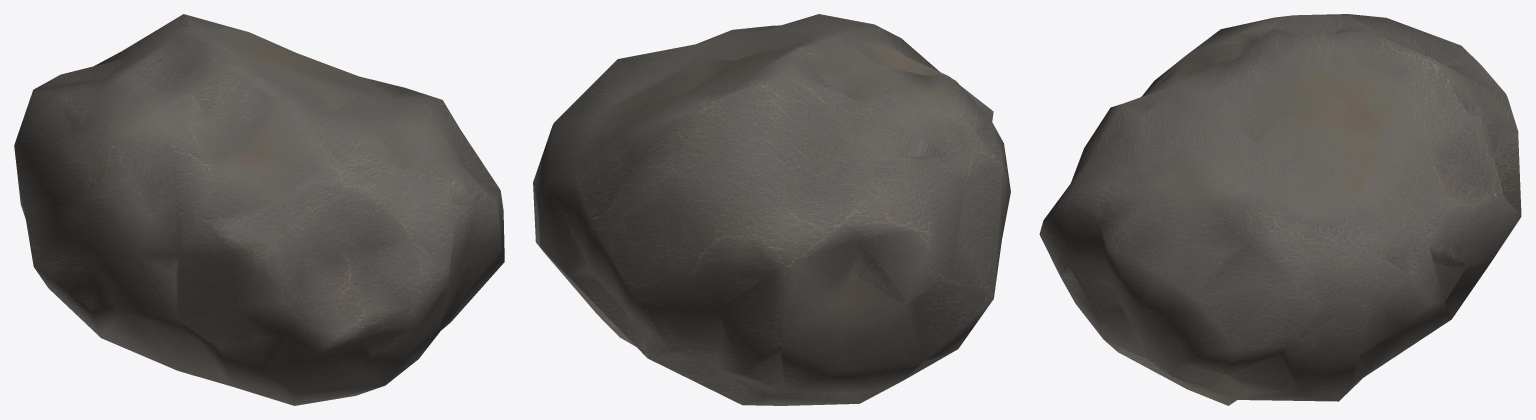
The model's file is legacy_asteroid_05.glb.
The picture shows the model from 3 angles, left to right: view 1: azimuth 30°, elevation 25°; view 2: azimuth 150°, elevation 25°; view 3: azimuth 270°, elevation 25°; orthographic projection. The views are drawn at different scales.
Parts seen in each view (by area): view 1: tripo_node_c738ef4b-f06b-4ed6-a4b7-85587c0a86ee; view 2: tripo_node_c738ef4b-f06b-4ed6-a4b7-85587c0a86ee; view 3: tripo_node_c738ef4b-f06b-4ed6-a4b7-85587c0a86ee.
Boxes of the visible parts, left/top/right/bottom form: tripo_node_c738ef4b-f06b-4ed6-a4b7-85587c0a86ee: left=14, top=14, right=504, bottom=405; tripo_node_c738ef4b-f06b-4ed6-a4b7-85587c0a86ee: left=533, top=14, right=1010, bottom=405; tripo_node_c738ef4b-f06b-4ed6-a4b7-85587c0a86ee: left=1039, top=14, right=1521, bottom=405.
Size of the model in its own units: 0.9856 by 0.6677 by 0.9537.
1 material, 1 textured.
